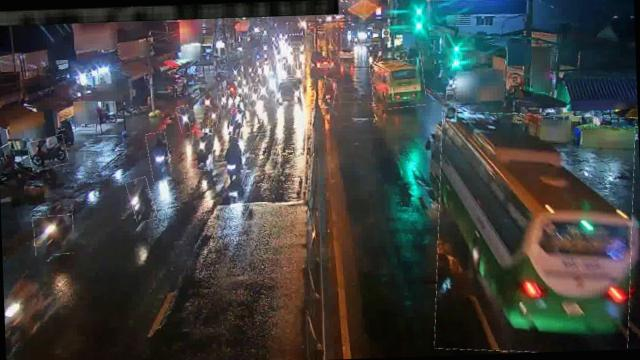Bike: (34, 216, 74, 256), (28, 137, 68, 170), (220, 138, 247, 184), (128, 178, 156, 222), (147, 132, 171, 182), (189, 131, 215, 171), (229, 108, 245, 138), (199, 90, 217, 114), (322, 79, 336, 108), (178, 105, 190, 134), (442, 102, 457, 122), (247, 88, 259, 110), (208, 105, 219, 128), (224, 90, 234, 114), (217, 92, 225, 112)
Bus: (430, 108, 640, 355), (371, 59, 426, 109)
Car: (274, 78, 304, 109)
